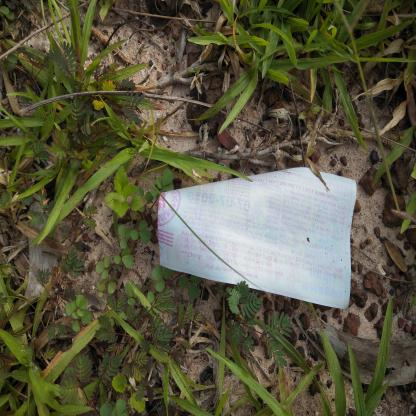trash: (154, 155, 362, 322)
